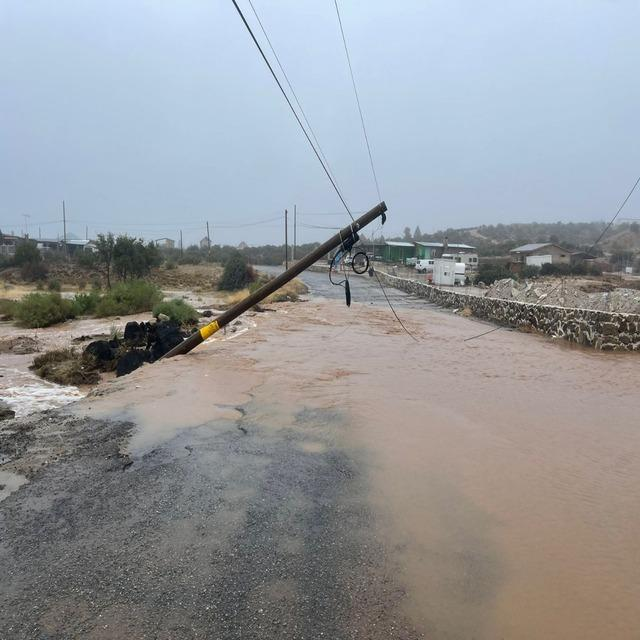Inclined Pole: (154, 200, 390, 361)
